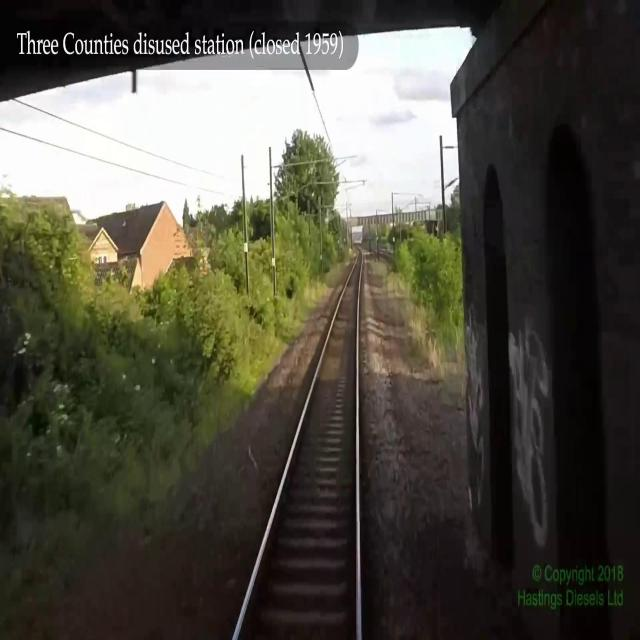rail-track: (236, 246, 361, 639)
